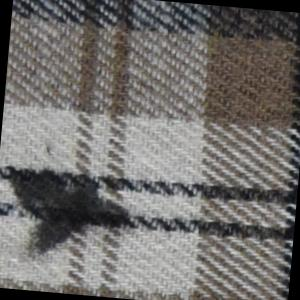Stain: (1, 137, 141, 272)
